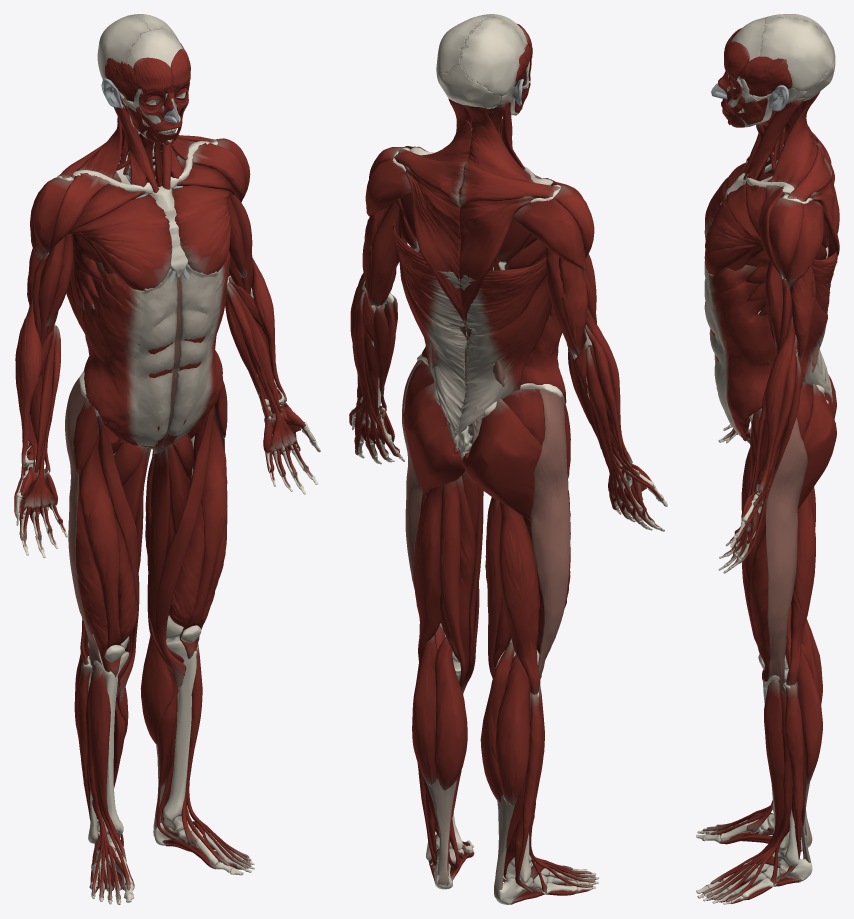
Rendered from ecorche.glb.
The picture shows the model from 3 angles, left to right: view 1: azimuth 30°, elevation 25°; view 2: azimuth 150°, elevation 25°; view 3: azimuth 270°, elevation 25°; orthographic projection. The views are drawn at different scales.
Parts seen in each view (by area): view 1: Right external oblique, Left external oblique, Sternocostal part of right pectoralis major, Right rectus femoris, Sternocostal part of left pectoralis major, Left sartorius, Left rectus femoris, Right sartorius, Left tibia, Left gracilis, Right tibialis anterior, Right vastus lateralis (+47 smaller); view 2: Right latissimus dorsi, Right iliotibial tract, Left latissimus dorsi, Right gluteus maximus, Long head of right biceps femoris, Ascending part of left trapezius, Left gluteus maximus, Ascending part of right trapezius, Lateral head of right gastrocnemius, Medial head of left gastrocnemius, Right parietal bone, Long head of left biceps femoris (+35 smaller); view 3: Left external oblique, Left iliotibial tract, Left parietal bone, Sternocostal part of left pectoralis major, Long head of left biceps femoris, Left gluteus maximus, Left tibialis anterior, Left latissimus dorsi, Left brachioradialis, Left fibularis longus, Descending part of left trapezius, Lateral head of left gastrocnemius (+32 smaller).
Part boxes in pixels (left/top/right/bottom): Right external oblique: left=81, top=261, right=177, bottom=448; Left external oblique: left=164, top=251, right=230, bottom=441; Sternocostal part of right pectoralis major: left=67, top=194, right=172, bottom=290; Right rectus femoris: left=79, top=422, right=121, bottom=676; Sternocostal part of left pectoralis major: left=172, top=185, right=231, bottom=274; Left sartorius: left=155, top=405, right=214, bottom=687; Left rectus femoris: left=179, top=413, right=227, bottom=658; Right sartorius: left=97, top=415, right=139, bottom=701; Left tibia: left=163, top=635, right=197, bottom=822; Left gracilis: left=147, top=447, right=184, bottom=662; Right tibialis anterior: left=89, top=664, right=126, bottom=861; Right vastus lateralis: left=75, top=470, right=109, bottom=672; Right latissimus dorsi: left=457, top=257, right=552, bottom=433; Right iliotibial tract: left=530, top=389, right=570, bottom=678; Left latissimus dorsi: left=393, top=219, right=467, bottom=432; Right gluteus maximus: left=462, top=399, right=541, bottom=520; Long head of right biceps femoris: left=499, top=502, right=540, bottom=694; Ascending part of left trapezius: left=403, top=165, right=465, bottom=325; Left gluteus maximus: left=403, top=383, right=465, bottom=496; Ascending part of right trapezius: left=459, top=187, right=537, bottom=323; Lateral head of right gastrocnemius: left=495, top=659, right=530, bottom=805; Medial head of left gastrocnemius: left=434, top=637, right=467, bottom=790; Right parietal bone: left=459, top=16, right=525, bottom=96; Long head of left biceps femoris: left=413, top=485, right=443, bottom=661; Left external oblique: left=704, top=264, right=777, bottom=439; Left iliotibial tract: left=765, top=417, right=807, bottom=689; Left parietal bone: left=759, top=17, right=833, bottom=90; Sternocostal part of left pectoralis major: left=704, top=184, right=762, bottom=274; Long head of left biceps femoris: left=786, top=494, right=815, bottom=685; Left gluteus maximus: left=797, top=383, right=836, bottom=509; Left tibialis anterior: left=758, top=679, right=784, bottom=853; Left latissimus dorsi: left=801, top=249, right=837, bottom=402; Left brachioradialis: left=757, top=316, right=795, bottom=493; Left fibularis longus: left=776, top=683, right=803, bottom=879; Descending part of left trapezius: left=770, top=92, right=819, bottom=188; Lateral head of left gastrocnemius: left=797, top=650, right=822, bottom=783.
Bounding box in the file's own units: 0.6478 × 1.71 × 0.2618.
